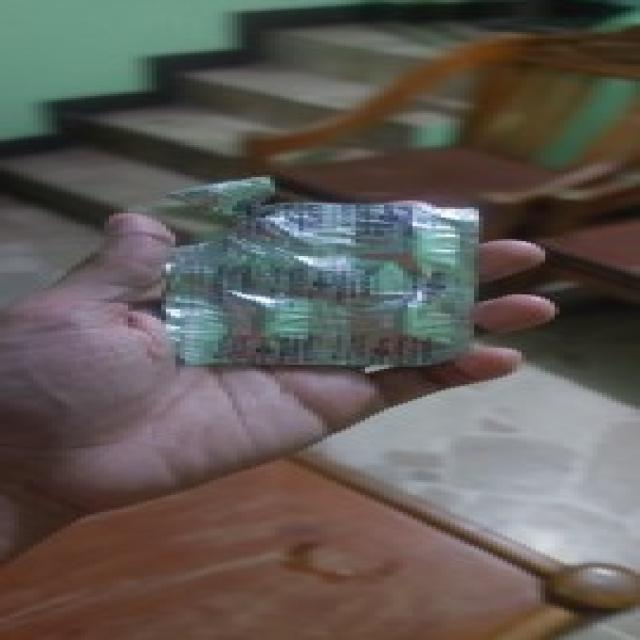Cacat: (142, 175, 476, 372)
Kemasan: (151, 175, 346, 272)
